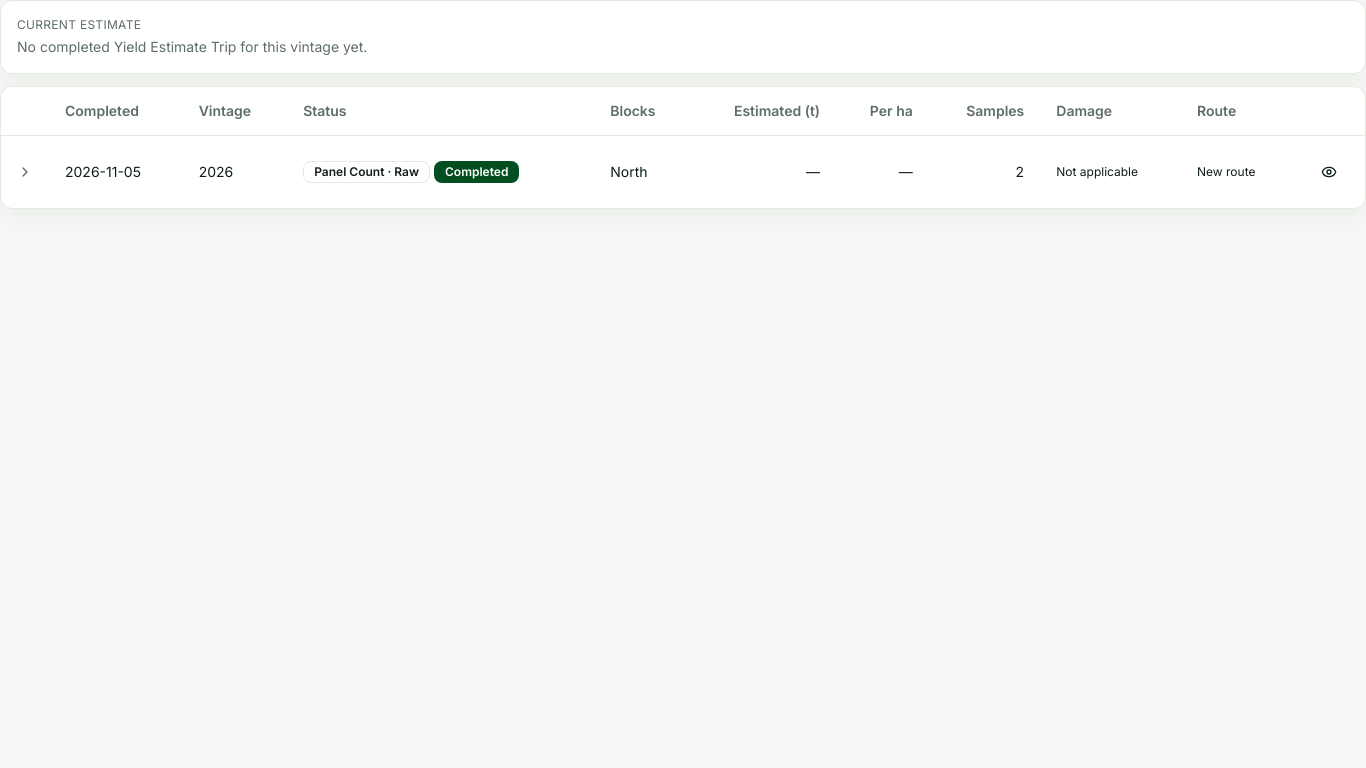
it: Panel Count raw history › displays dated raw totals and skipped sites without offering a panel delete
Expected: the cell "2" is shown, [929,135,1040,208]
Step 1. Click the row with test id "trip-row-panel" → click(103, 171), box [1,135,1365,208]
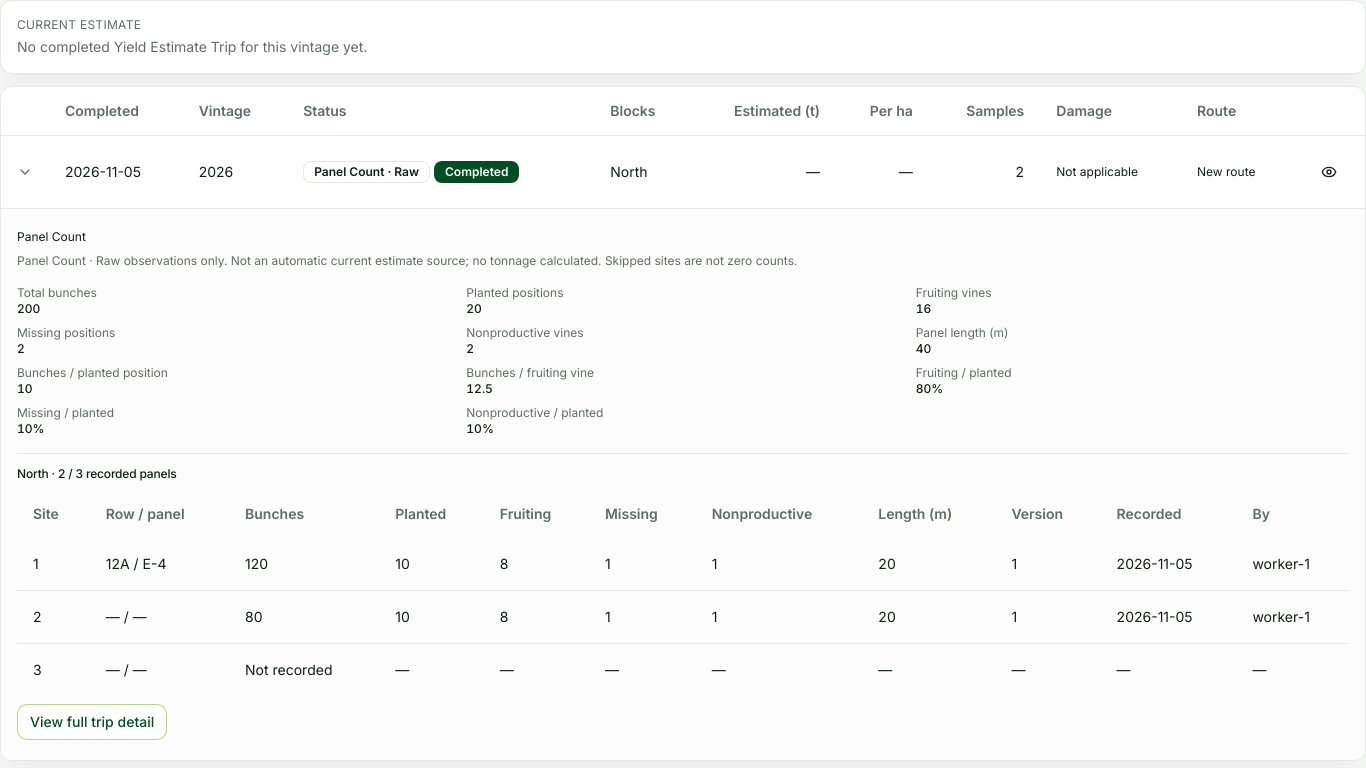
Expected: the text "Panel Count · Raw" is shown, [303,160,430,182]
Expected: the text "200" is shown, [17,300,40,316]
Expected: the text "Not recorded" is shown, [229,643,379,696]
